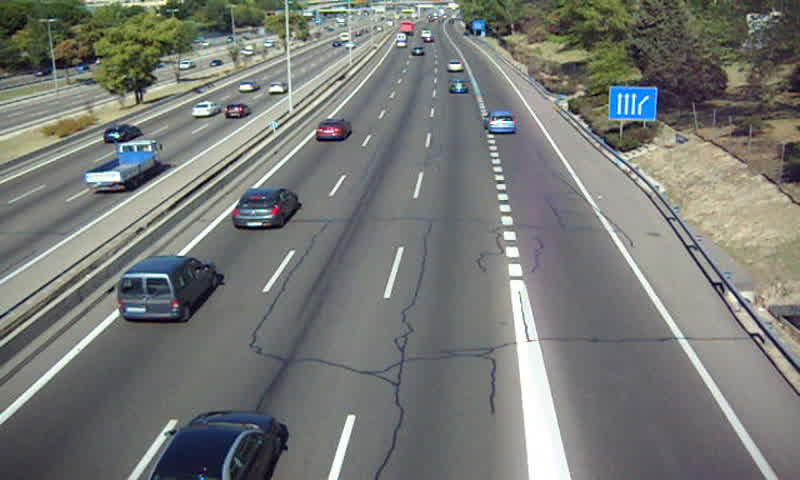car: (152, 410, 278, 480), (232, 188, 299, 227), (315, 118, 352, 140), (485, 110, 517, 133), (447, 78, 468, 94), (446, 59, 464, 70)
van: (117, 256, 218, 320)
